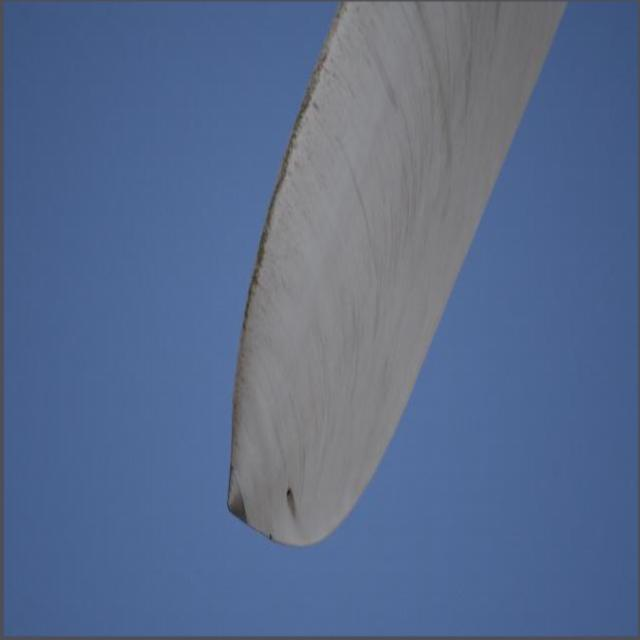Burn Mark: (286, 488, 298, 526)
EROSION: (223, 15, 336, 342)
